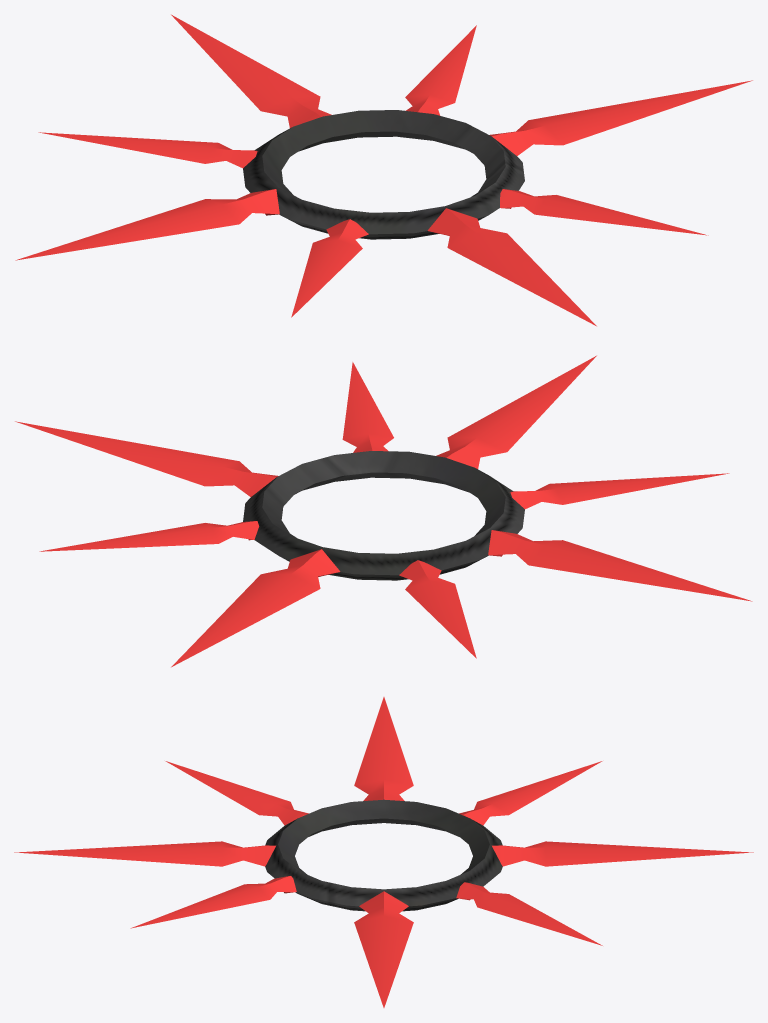
File: projectile_shirikun.fbx
The picture shows the model from 3 angles, top to bottom: view 1: azimuth 30°, elevation 25°; view 2: azimuth 150°, elevation 25°; view 3: azimuth 270°, elevation 25°; orthographic projection. The views are drawn at different scales.
Visible parts, largest first — view 1: polySurface1; view 2: polySurface1; view 3: polySurface1.
Boxes of the visible parts, x1,y1,x2,y2 form: polySurface1: (15,14,752,326); polySurface1: (15,355,752,667); polySurface1: (14,697,753,1007).
Bounding box in the file's own units: 3.82 × 0.1323 × 3.82.
1 material, 1 textured.
